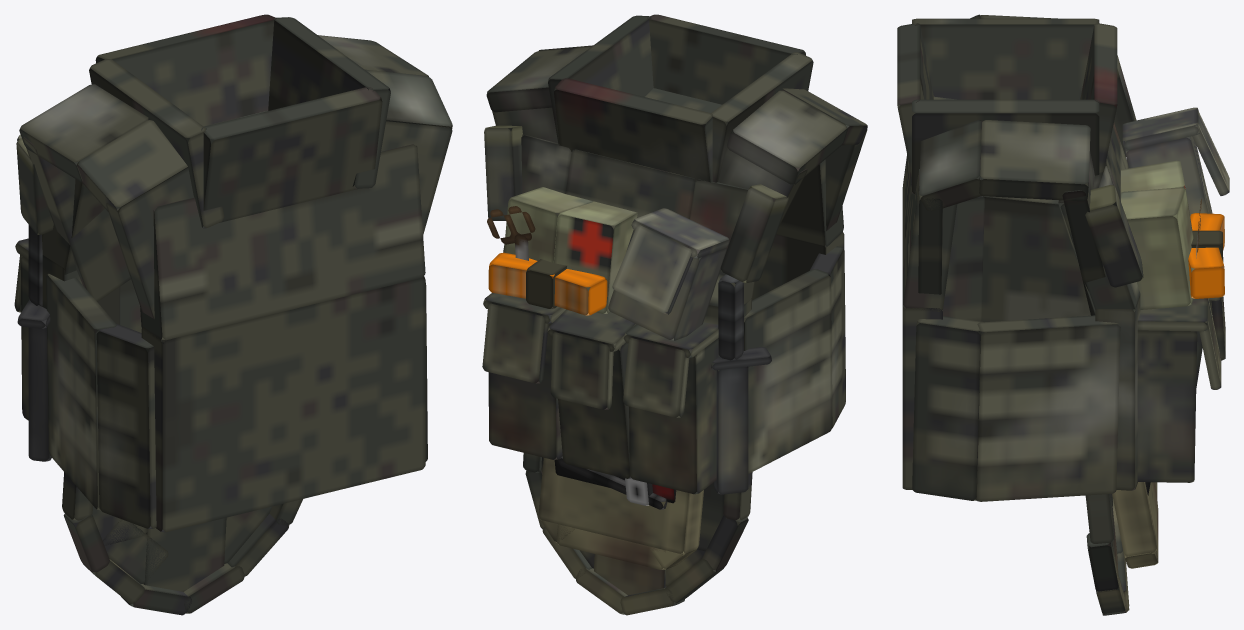
Rendered from ratnik_veteran.obj.
3 views of the same model, side by side, from view 1: azimuth 30°, elevation 25°; view 2: azimuth 150°, elevation 25°; view 3: azimuth 270°, elevation 25° (orthographic). The views are drawn at different scales.
Parts seen in each view (by area): view 1: mesh; view 2: mesh; view 3: mesh.
Boxes of the visible parts, x1,y1,x2,y2 form: mesh: (14, 14, 452, 615); mesh: (482, 14, 867, 615); mesh: (897, 14, 1229, 615).
Bounding box in the file's own units: 0.7271 × 1.13 × 0.6209.
